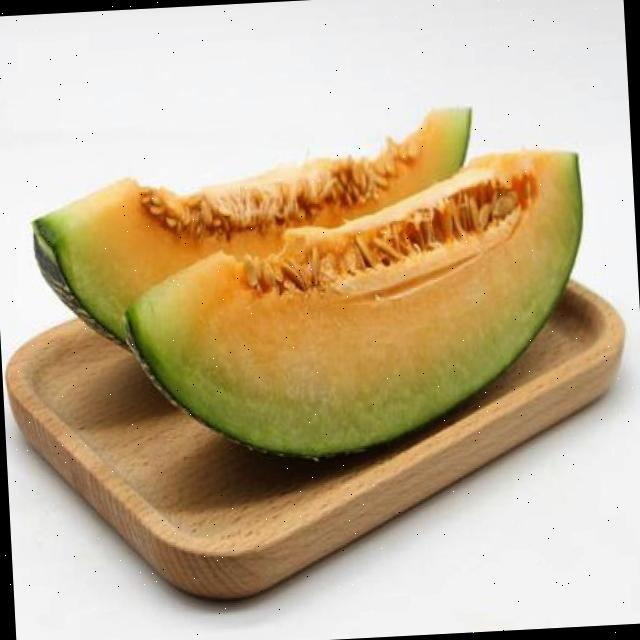Hami Melon: (27, 100, 597, 470)
